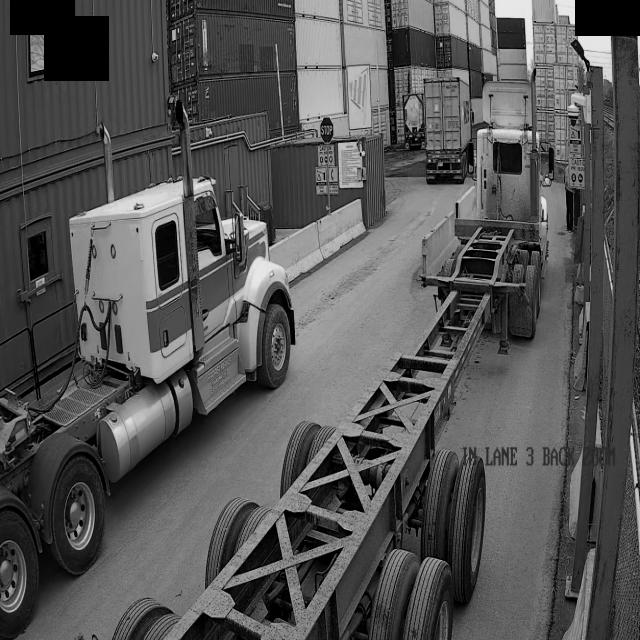truck_without_container: (112, 80, 548, 640)
